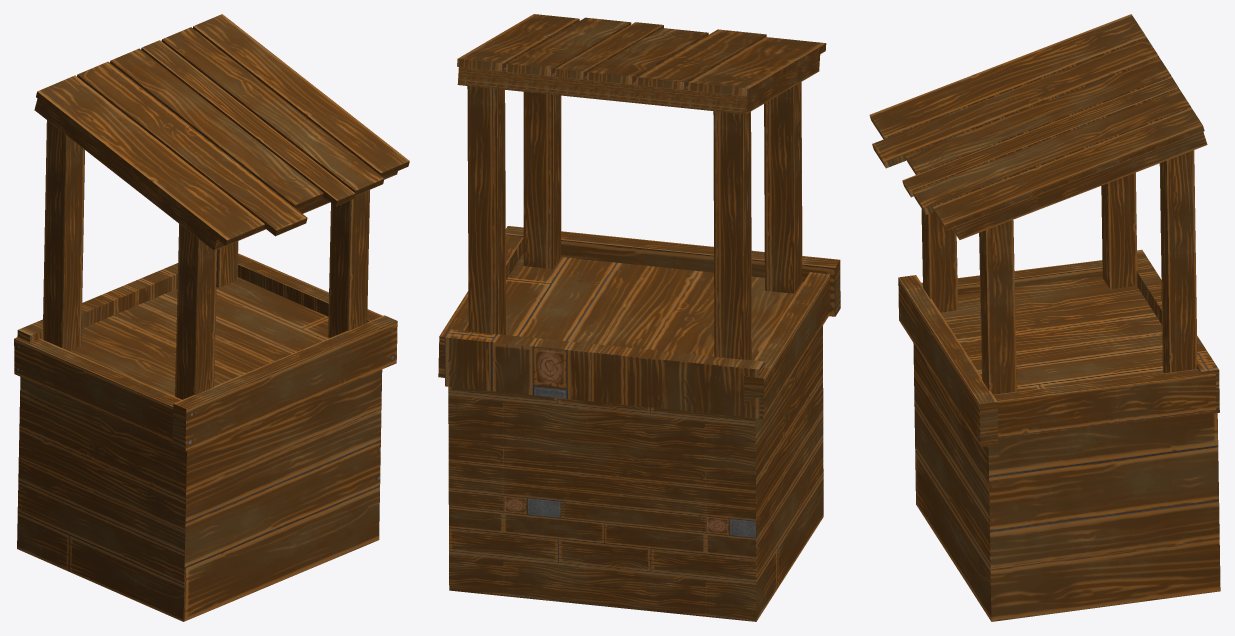
The picture shows the model from 3 angles, left to right: view 1: azimuth 30°, elevation 25°; view 2: azimuth 150°, elevation 25°; view 3: azimuth 270°, elevation 25°; orthographic projection. The views are drawn at different scales.
Visible parts, largest first — view 1: Cube.1872; view 2: Cube.1872; view 3: Cube.1872.
Part boxes in pixels (x1,y1,x2,y2): Cube.1872: [14, 14, 409, 621]; Cube.1872: [438, 14, 840, 621]; Cube.1872: [869, 14, 1220, 621].
Size of the model in its own units: 300 by 438 by 295.
1 material, 1 textured.
